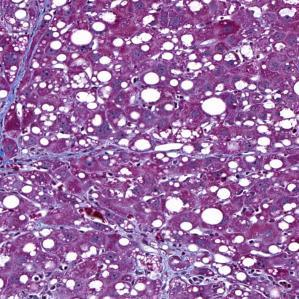fibrosis: (0, 55, 32, 111)
